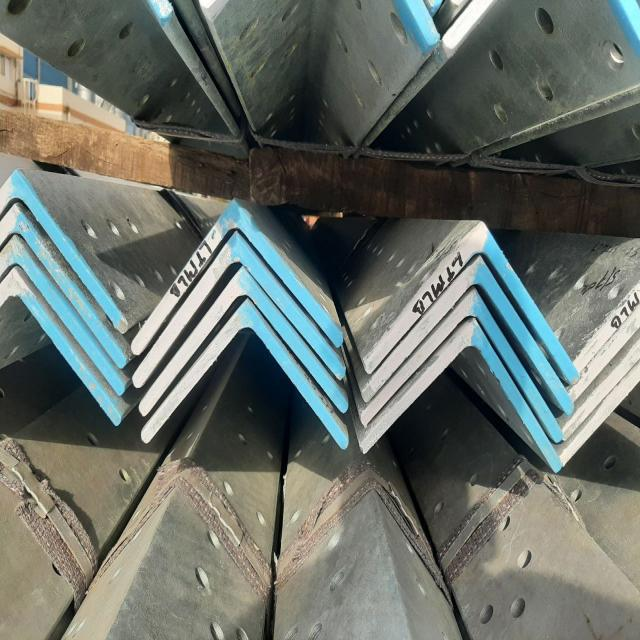metal-angles: (365, 222, 579, 384), (132, 231, 349, 390), (360, 255, 573, 416), (131, 197, 343, 355), (360, 287, 564, 442), (139, 264, 348, 415), (141, 298, 349, 449), (359, 318, 562, 471)
